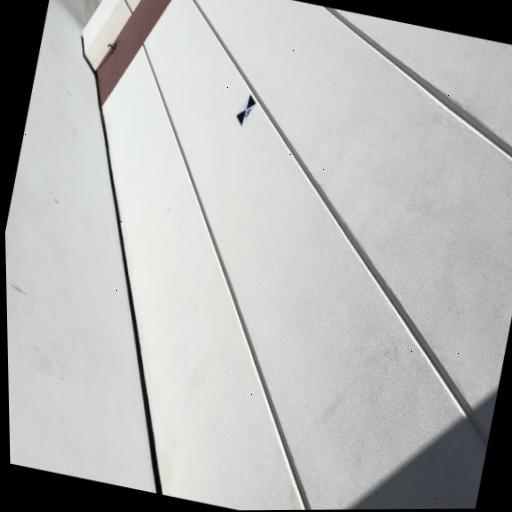target4: (236, 93, 256, 127)
